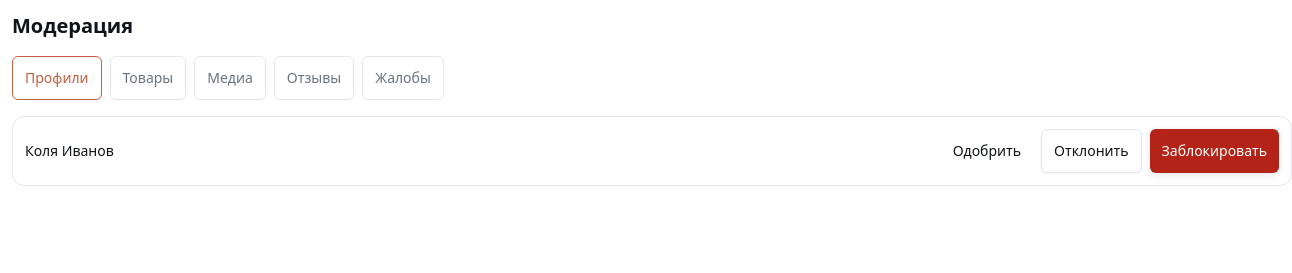
Test: ModerationPage › ошибку действия показывает алертом
Click the button "Одобрить": (987, 151) x1=941 y1=129 x2=1033 y2=173
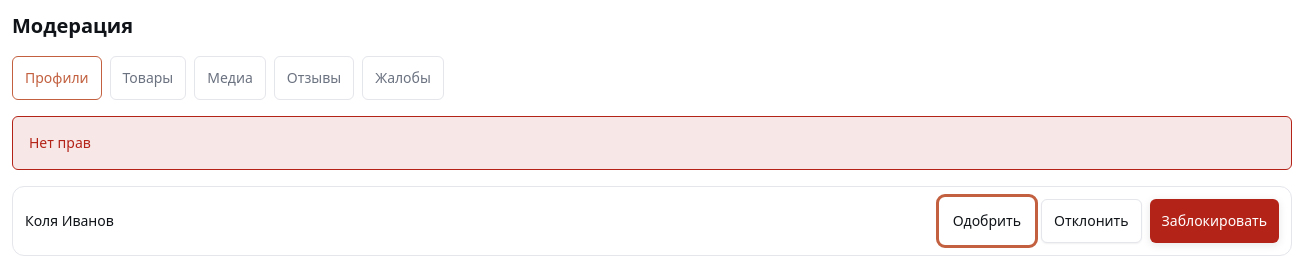
expect the text "Нет прав" is shown: met, box x1=12 y1=116 x2=1291 y2=170
